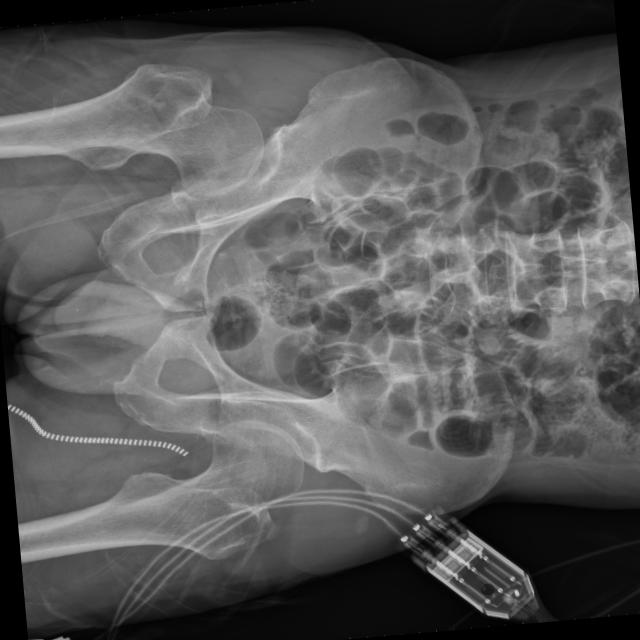normal-left: (17, 419, 303, 563), (0, 63, 262, 197)
